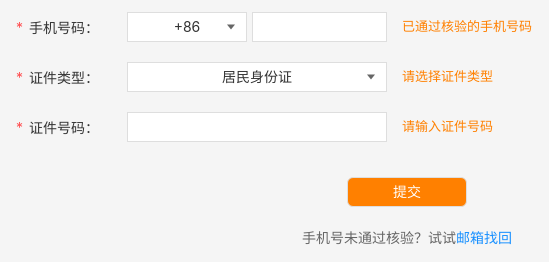
Test: AccountInfoStep 组件测试 › 验证逻辑 › 应该验证证件号码格式（18位）
Step 1. Type "19805819256" into the field next to "+86" → (320, 27), box [252,12,387,42]
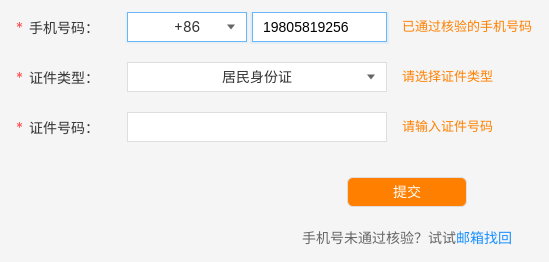
Step 2. Type "123" into the field next to "请输入证件号码" → (257, 127), box [127,112,387,142]
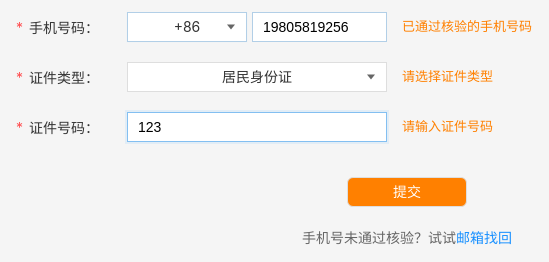
Step 3. Click the button "提交" → (407, 192), box [347,177,467,207]
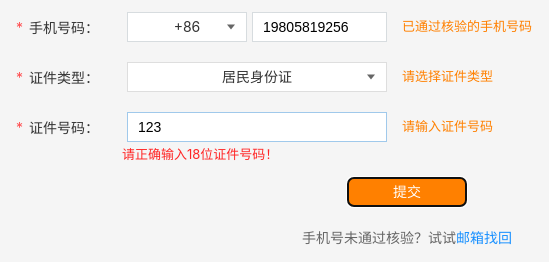
Check: the text "请正确输入18位证件号码！" is shown, box [122,144,278,164]
